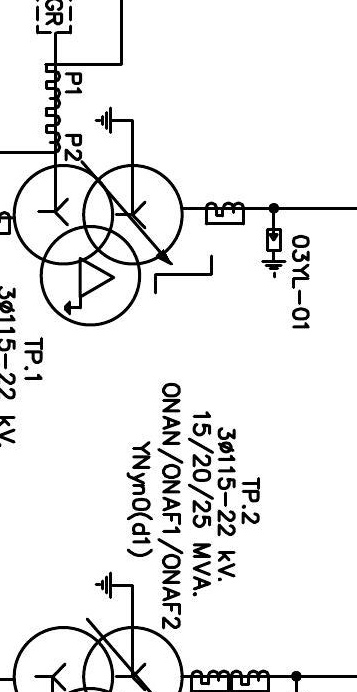11522_tx_ynyn0d1: (11, 163, 185, 328)
115_la: (261, 227, 287, 279)
